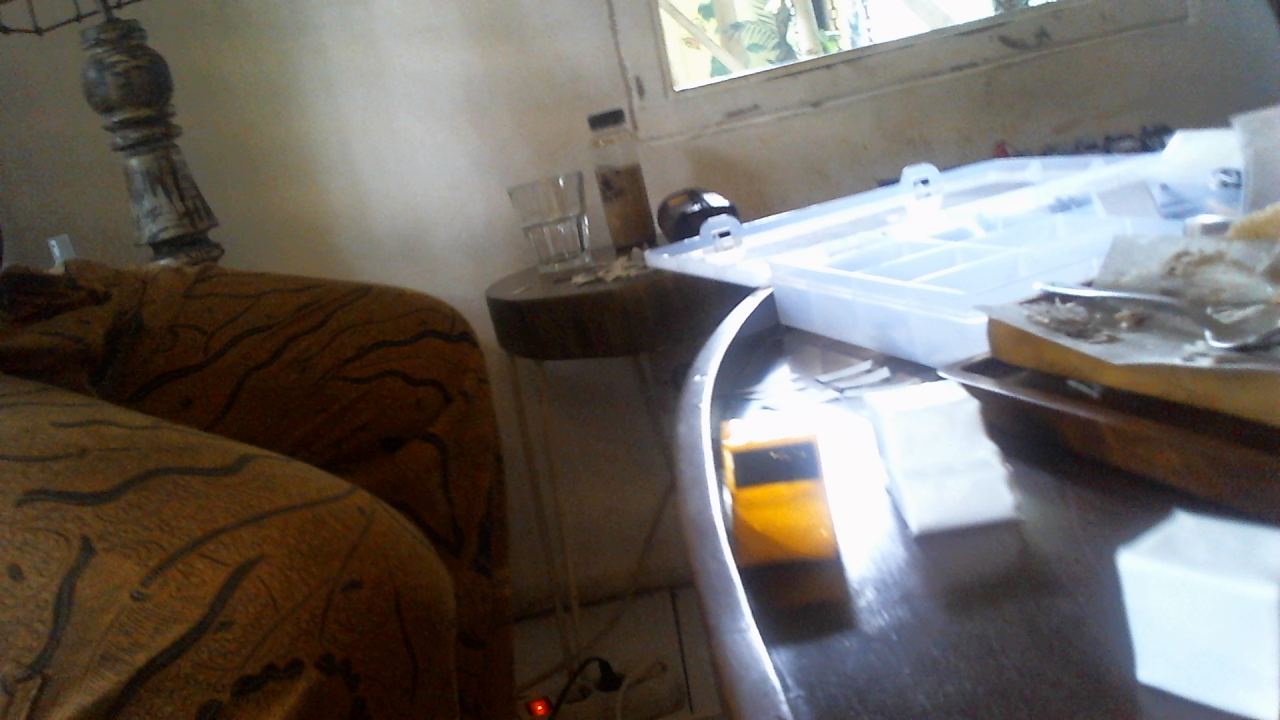Kijang Kapsul: (691, 404, 869, 573)
